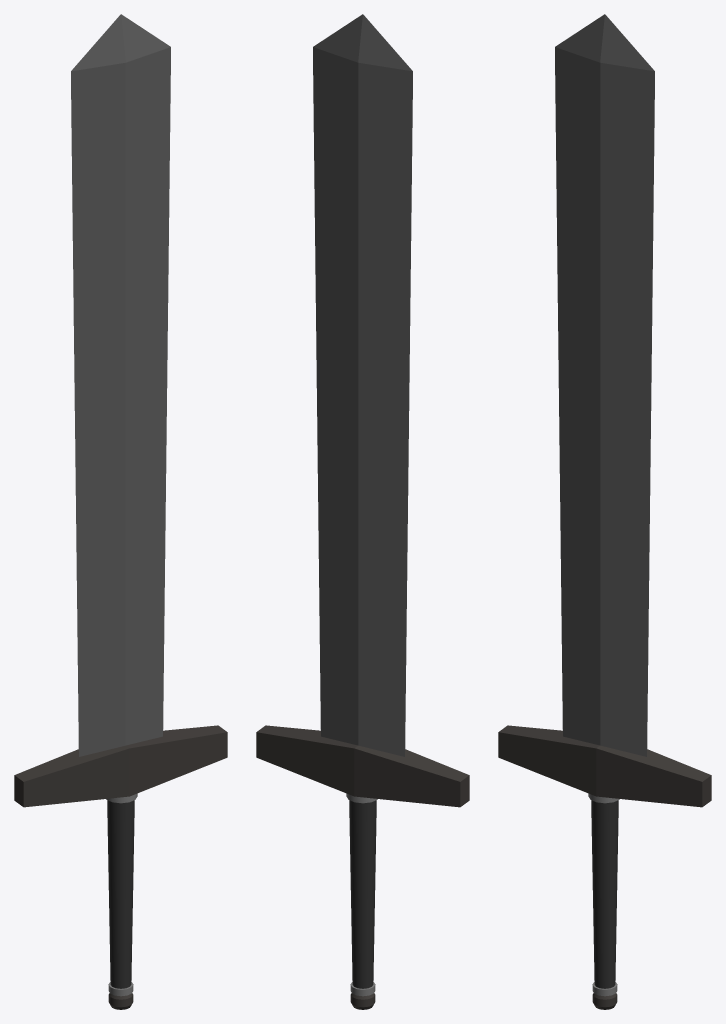
Rendered from Great Sword.fbx.
3 views of the same model, side by side, from view 1: azimuth 30°, elevation 25°; view 2: azimuth 150°, elevation 25°; view 3: azimuth 330°, elevation 25° (orthographic).
Parts seen in each view (by area): view 1: Great Sword_Baked; view 2: Great Sword_Baked; view 3: Great Sword_Baked.
Boxes of the visible parts, x1,y1,x2,y2 form: Great Sword_Baked: (14, 14, 227, 1009); Great Sword_Baked: (256, 14, 469, 1009); Great Sword_Baked: (498, 14, 711, 1009).
Bounding box in the file's own units: 29.27 × 136 × 4.36.
1 material, 1 textured.
